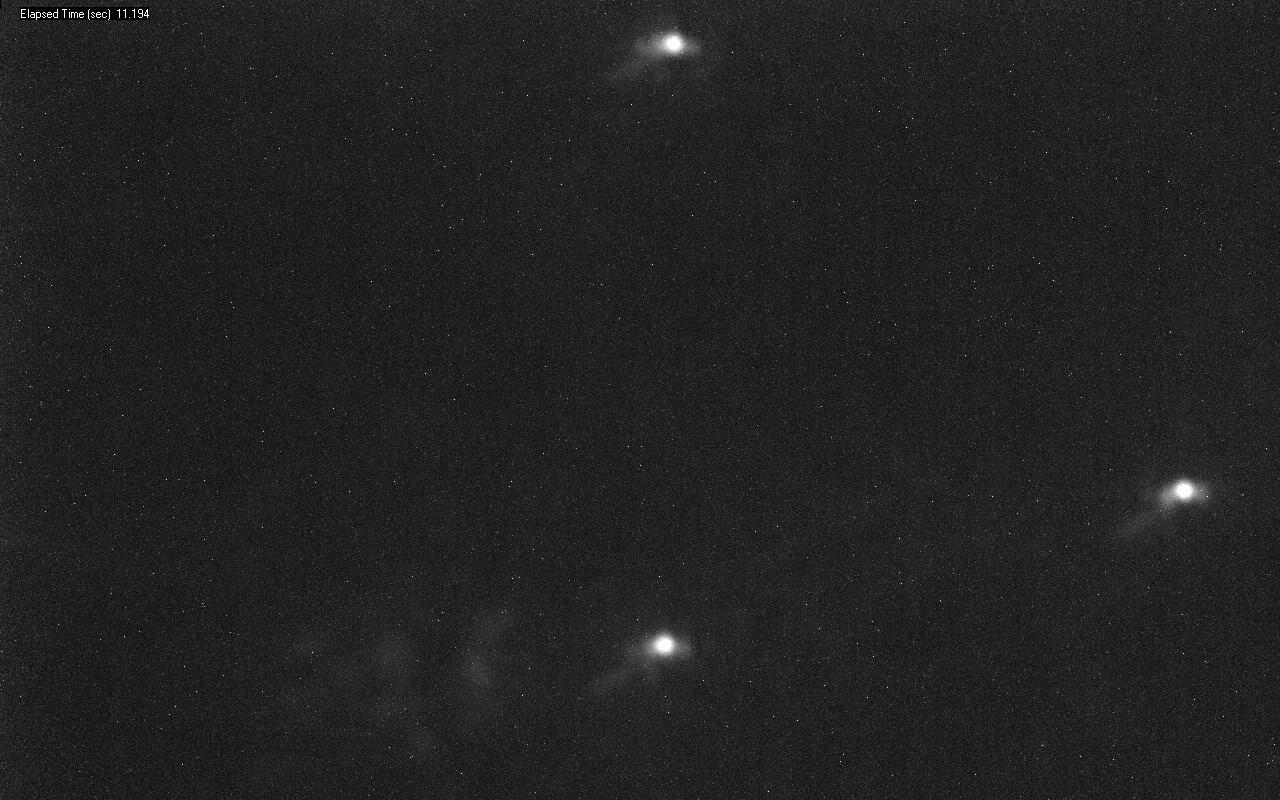Bead: (1161, 480, 1203, 507), (655, 31, 691, 58), (649, 632, 681, 659)
